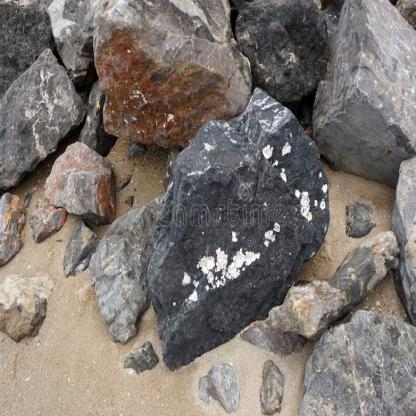Sedimentary_Limestone: (150, 84, 331, 374), (87, 0, 260, 144), (262, 225, 400, 350), (315, 1, 415, 170), (0, 35, 83, 200)
